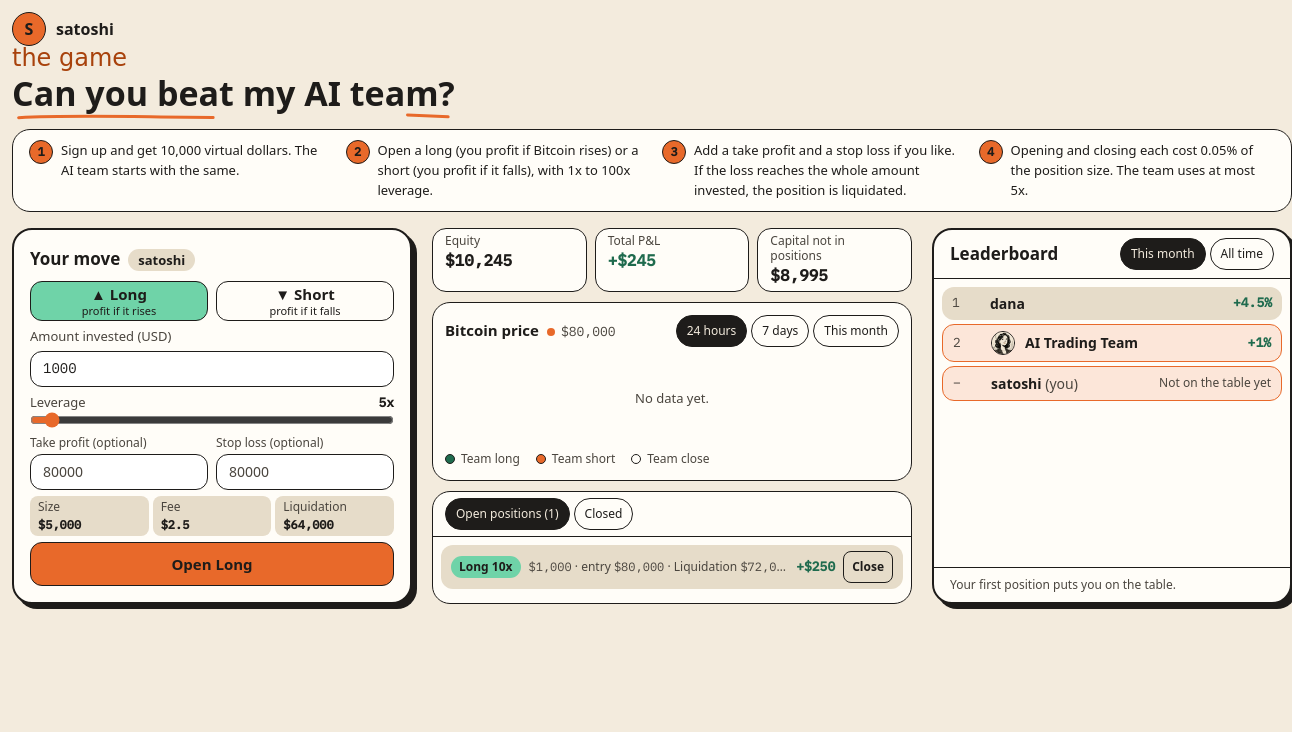
Scenario: logged in, the strip and the open positions show live numbers, and close sends the id
Check: the text "$10,245" is shown, box [445,250,512,270]
Check: the text "+$245" is shown, box [608,250,656,270]
Click the button "Close" at (868, 567), box [843,551,893,583]
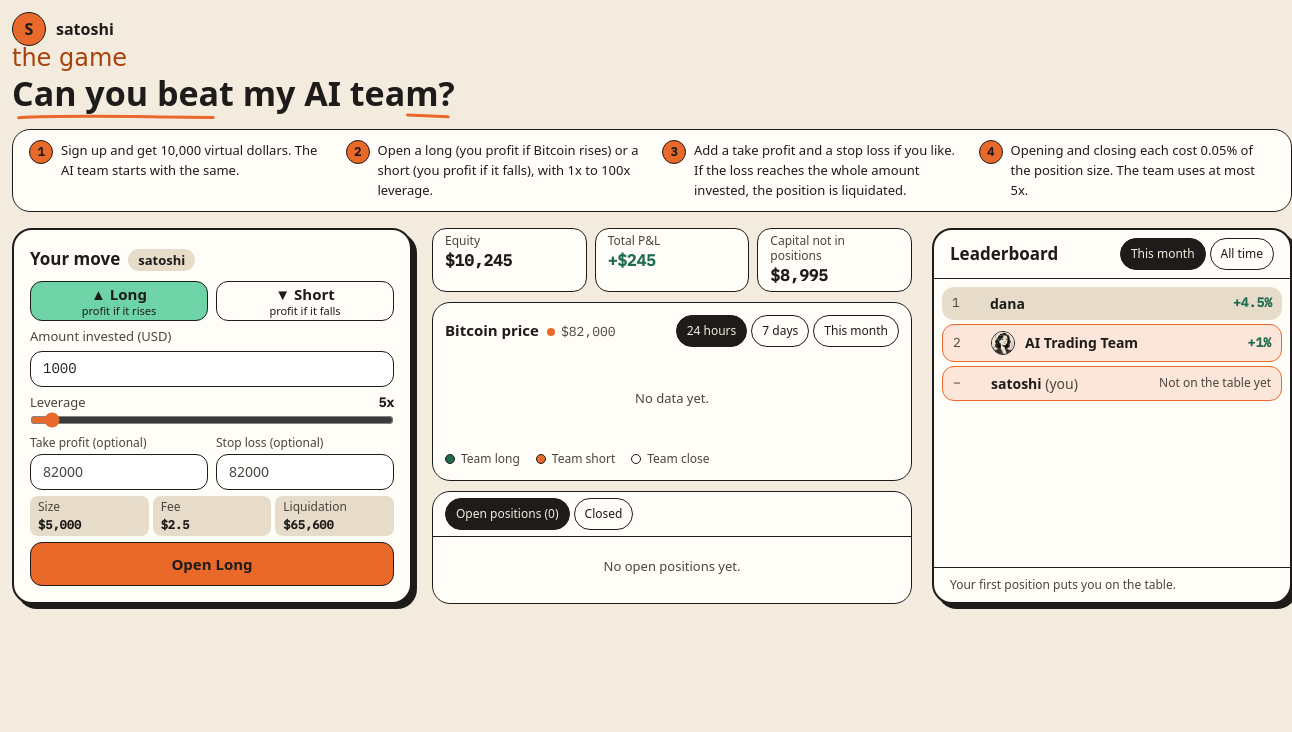
Check: the list item "No open positions yet." is shown, box [604,557,740,575]
